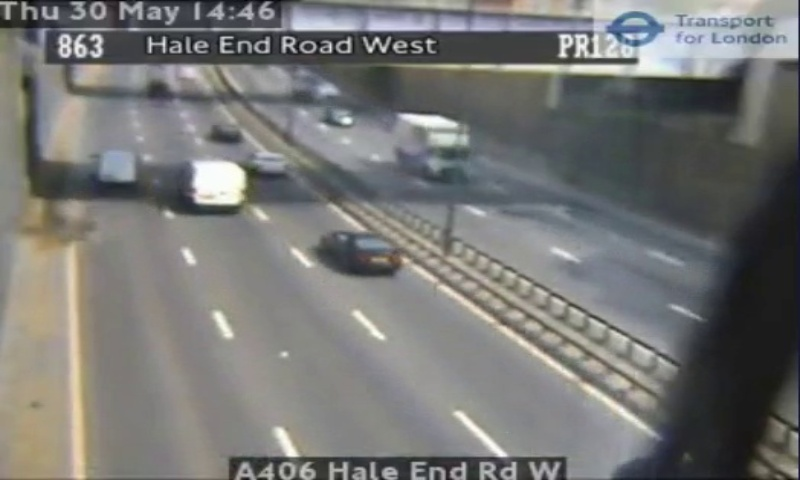car: (323, 231, 401, 272)
van: (183, 160, 247, 208), (99, 151, 135, 179)
